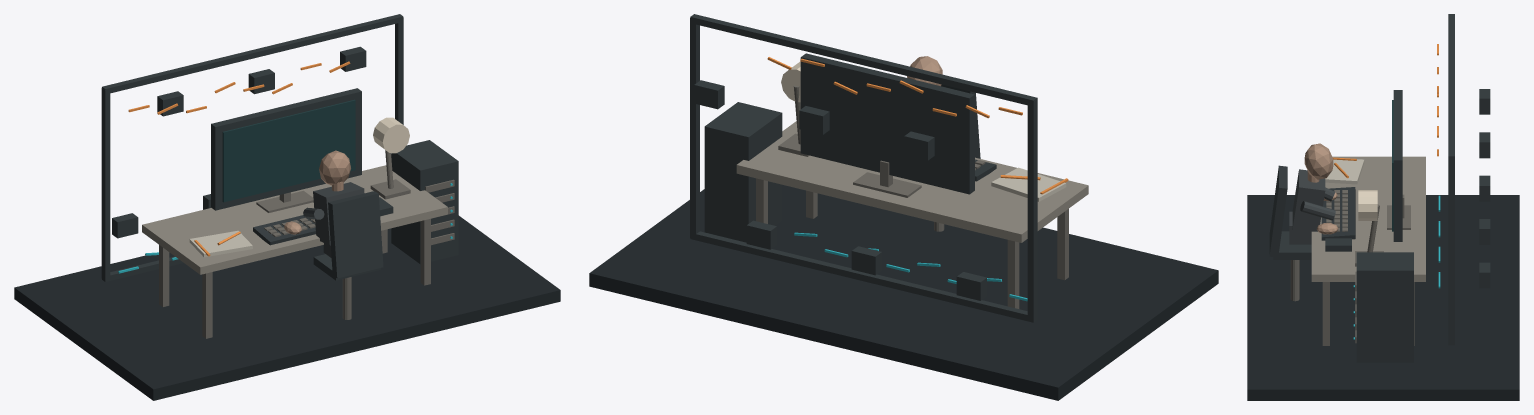
The model's file is developer-workspace.glb.
The picture shows the model from 3 angles, left to right: view 1: azimuth 30°, elevation 25°; view 2: azimuth 150°, elevation 25°; view 3: azimuth 270°, elevation 25°; orthographic projection. The views are drawn at different scales.
Visible parts, largest first — view 1: graphite_platform, primary_screen, desk_top, server_chassis, chair_back, monitor_body, frame_horizontal_6.3, frame_vertical_-4.5, developer_torso, notebook, lamp_shade, frame_vertical_4.5 (+12 smaller); view 2: graphite_platform, monitor_body, desk_top, server_chassis, frame_horizontal_6.3, frame_horizontal_0.8, frame_vertical_-4.5, frame_vertical_4.5, notebook, desk_leg_-3.35_1.15, monitor_base, desk_leg_-3.35_-1.15 (+6 smaller); view 3: graphite_platform, desk_top, server_chassis, monitor_body, developer_torso, frame_vertical_4.5, chair_back, frame_horizontal_6.3, keyboard, developer_head, notebook, chair_seat (+13 smaller).
Boxes of the visible parts, bbox=[...] form: graphite_platform: bbox=[14, 215, 560, 400]; primary_screen: bbox=[222, 99, 355, 202]; desk_top: bbox=[142, 165, 447, 274]; server_chassis: bbox=[391, 140, 458, 264]; chair_back: bbox=[328, 191, 383, 278]; monitor_body: bbox=[211, 88, 361, 210]; frame_horizontal_6.3: bbox=[102, 14, 403, 94]; frame_vertical_-4.5: bbox=[101, 88, 110, 280]; developer_torso: bbox=[313, 182, 364, 245]; notebook: bbox=[189, 230, 252, 257]; lamp_shade: bbox=[373, 117, 409, 153]; frame_vertical_4.5: bbox=[395, 17, 403, 124]; graphite_platform: bbox=[589, 185, 1218, 400]; monitor_body: bbox=[800, 53, 974, 194]; desk_top: bbox=[736, 121, 1088, 242]; server_chassis: bbox=[704, 102, 782, 242]; frame_horizontal_6.3: bbox=[690, 14, 1037, 106]; frame_horizontal_0.8: bbox=[690, 231, 1037, 322]; frame_vertical_-4.5: bbox=[1027, 99, 1037, 321]; frame_vertical_4.5: bbox=[690, 18, 699, 238]; notebook: bbox=[991, 167, 1066, 201]; desk_leg_-3.35_1.15: bbox=[1007, 240, 1019, 308]; monitor_base: bbox=[853, 172, 921, 197]; desk_leg_-3.35_-1.15: bbox=[1057, 209, 1068, 280]; graphite_platform: bbox=[1247, 195, 1519, 400]; desk_top: bbox=[1311, 156, 1425, 281]; server_chassis: bbox=[1356, 252, 1413, 362]; monitor_body: bbox=[1393, 90, 1402, 241]; developer_torso: bbox=[1292, 169, 1325, 234]; frame_vertical_4.5: bbox=[1448, 157, 1454, 344]; chair_back: bbox=[1269, 165, 1287, 257]; frame_horizontal_6.3: bbox=[1448, 14, 1454, 157]; keyboard: bbox=[1321, 187, 1355, 240]; developer_head: bbox=[1304, 143, 1333, 179]; notebook: bbox=[1325, 159, 1364, 184]; chair_seat: bbox=[1273, 231, 1311, 259].
Bounding box in the file's own units: 12.5 × 6.55 × 7.4.
